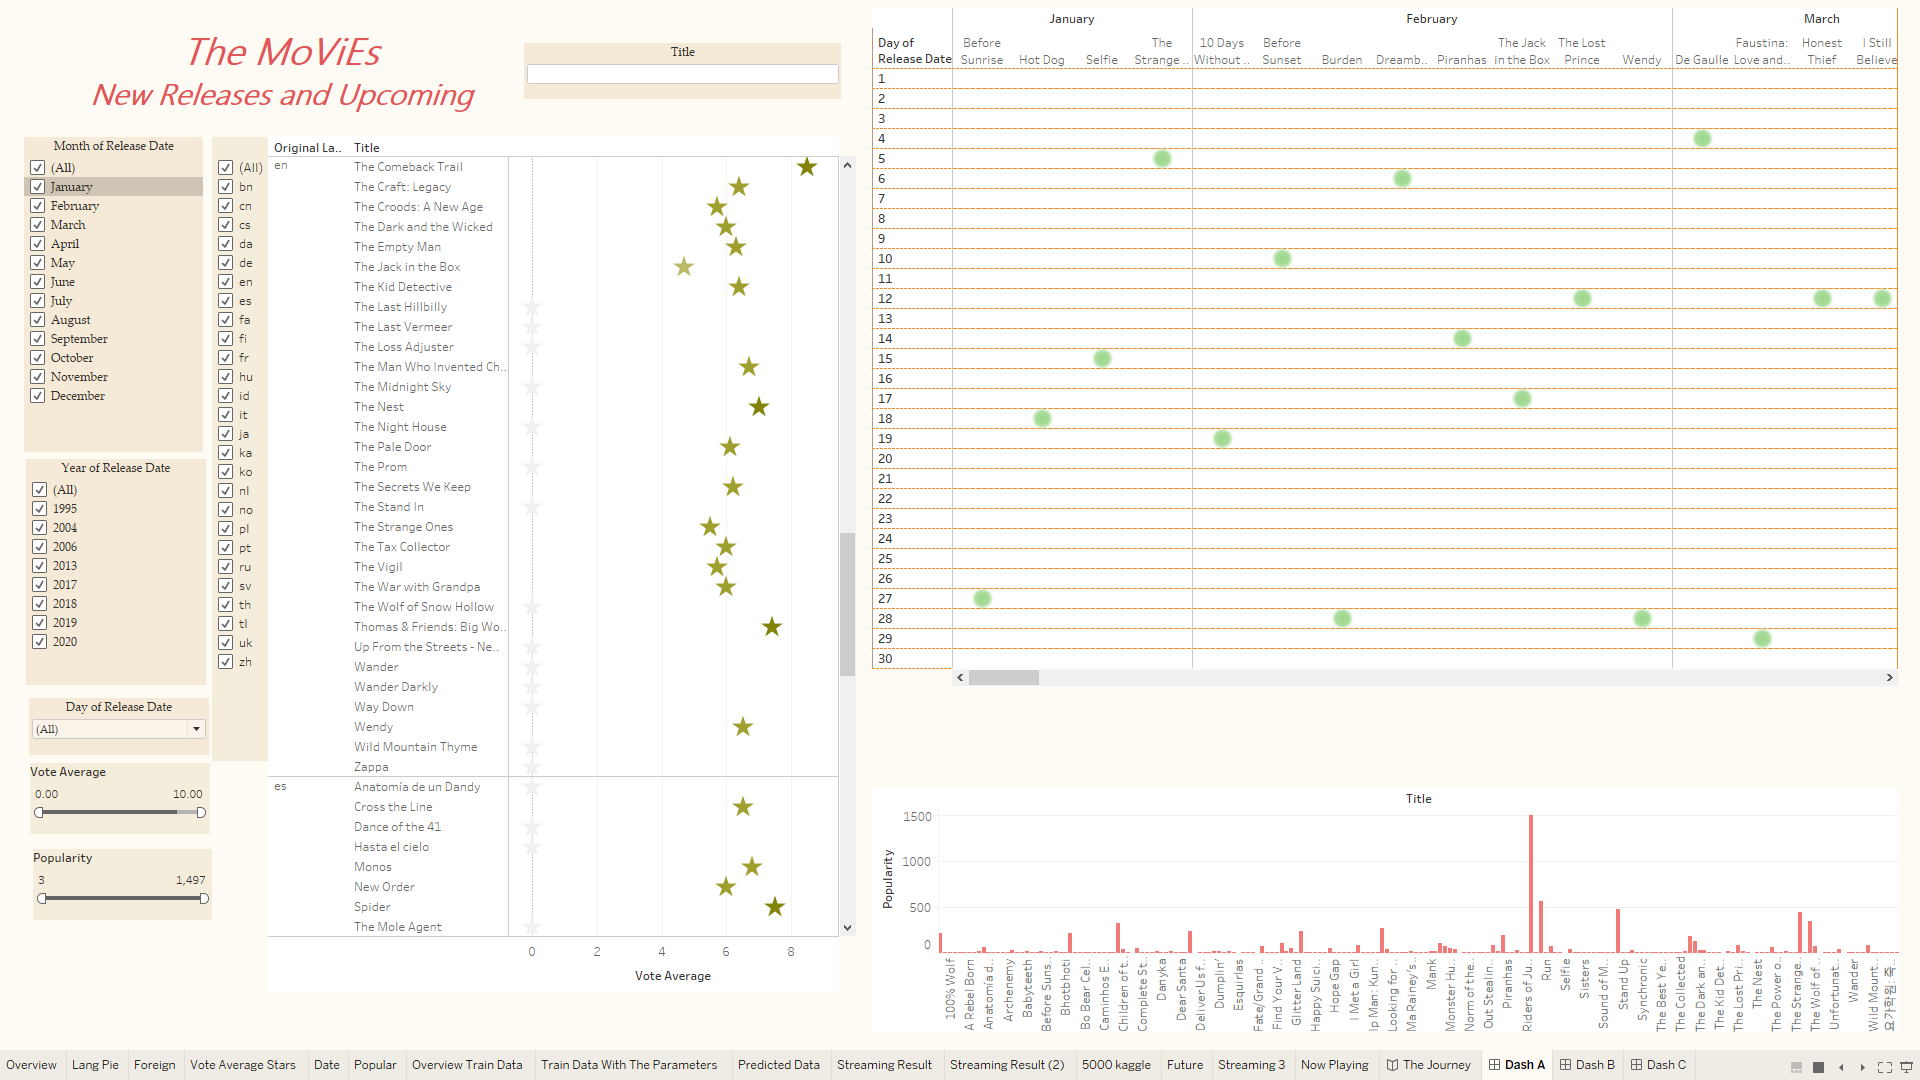

The dashboard page shown, as its layout file describes it:
{"tool":"tableau","page":{"name":"Dash A","canvas":[1000,1000],"units":"permille","ordinal":0},"visuals":[{"type":"worksheet","box":[0,0,1000,1000]},{"type":"worksheet","param":"vert","box":[4.2,7.6,991.7,984.8]},{"type":"worksheet","box":[4.2,7.6,991.7,984.8]},{"type":"worksheet","title":"Date","mark":"Heatmap","rows":["release_date"],"cols":["release_date","title"],"box":[454.1,7.7,534.2,740]},{"type":"worksheet","title":"Date","mark":"Heatmap","rows":["release_date"],"cols":["release_date","title"],"param":"[federated.0l3es6j1ce11xe12wu50z00fvczl].[none:title:nk]","box":[272.7,40.9,165.6,53.1]},{"type":"worksheet","title":"Vote Average Stars","mark":"Shape","rows":["original_language","title"],"cols":["vote_average"],"box":[139.6,129.4,306.1,815.3]},{"type":"worksheet","title":"Date","mark":"Heatmap","rows":["release_date"],"cols":["release_date","title"],"param":"[federated.0l3es6j1ce11xe12wu50z00fvczl].[mn:release_date:ok]","box":[12.3,130.5,93.6,299.8]},{"type":"worksheet","title":"Vote Average Stars","mark":"Shape","rows":["original_language","title"],"cols":["vote_average"],"param":"[federated.0l3es6j1ce11xe12wu50z00fvczl].[none:original_language:nk]","box":[110.6,130.5,93.6,594]},{"type":"worksheet","title":"Date","mark":"Heatmap","rows":["release_date"],"cols":["release_date","title"],"param":"[federated.0l3es6j1ce11xe12wu50z00fvczl].[yr:release_date:ok]","box":[13.5,436.9,93.6,215.7]},{"type":"worksheet","title":"Date","mark":"Heatmap","rows":["release_date"],"cols":["release_date","title"],"param":"[federated.0l3es6j1ce11xe12wu50z00fvczl].[dy:release_date:ok]","box":[15.2,664.8,93.6,54.2]},{"type":"worksheet","title":"Vote Average Stars","mark":"Shape","rows":["original_language","title"],"cols":["vote_average"],"param":"[federated.0l3es6j1ce11xe12wu50z00fvczl].[none:vote_average:qk]","box":[15.8,726.8,93.6,67.5]},{"type":"worksheet","title":"Popular","mark":"Bar","rows":["popularity"],"cols":["title"],"box":[454.1,750,534.8,233.4]},{"type":"worksheet","title":"Popular","mark":"Bar","rows":["popularity"],"cols":["title"],"param":"[federated.0l3es6j1ce11xe12wu50z00fvczl].[sum:popularity:qk]","box":[17,808.6,93.6,67.5]}]}

Visuals, with their boxes on the dashboard's canvas, which has no fixed pixel size, in thousandths of its width and height (x1, y1, x2, y2). These are canvas units, not pixel positions in the 1920x1080 screenshot, which may show the page scaled, cropped or inside an application window:
worksheet: Rect(0, 0, 1000, 1000)
worksheet: Rect(4, 8, 996, 992)
worksheet: Rect(4, 8, 996, 992)
"Date" worksheet (Heatmap marks): Rect(454, 8, 988, 748)
"Date" worksheet (Heatmap marks): Rect(273, 41, 438, 94)
"Vote Average Stars" worksheet (Shape marks): Rect(140, 129, 446, 945)
"Date" worksheet (Heatmap marks): Rect(12, 130, 106, 430)
"Vote Average Stars" worksheet (Shape marks): Rect(111, 130, 204, 724)
"Date" worksheet (Heatmap marks): Rect(14, 437, 107, 653)
"Date" worksheet (Heatmap marks): Rect(15, 665, 109, 719)
"Vote Average Stars" worksheet (Shape marks): Rect(16, 727, 109, 794)
"Popular" worksheet (Bar marks): Rect(454, 750, 989, 983)
"Popular" worksheet (Bar marks): Rect(17, 809, 111, 876)
